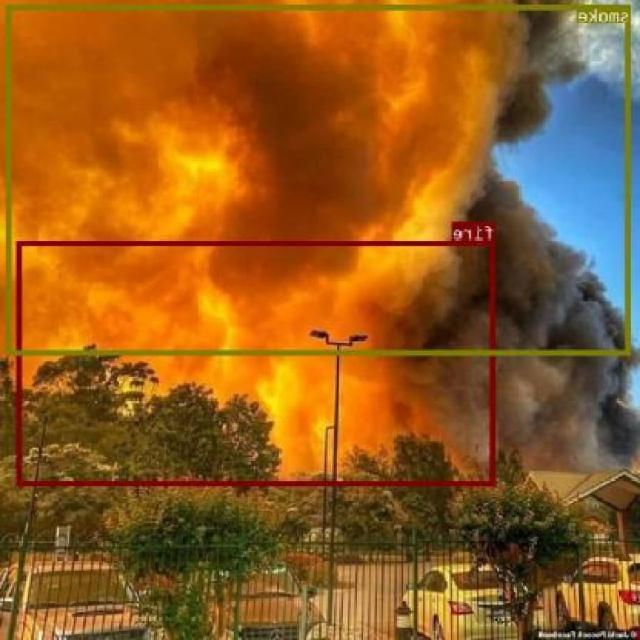fire: (18, 240, 496, 485)
smoke: (9, 3, 632, 354)
